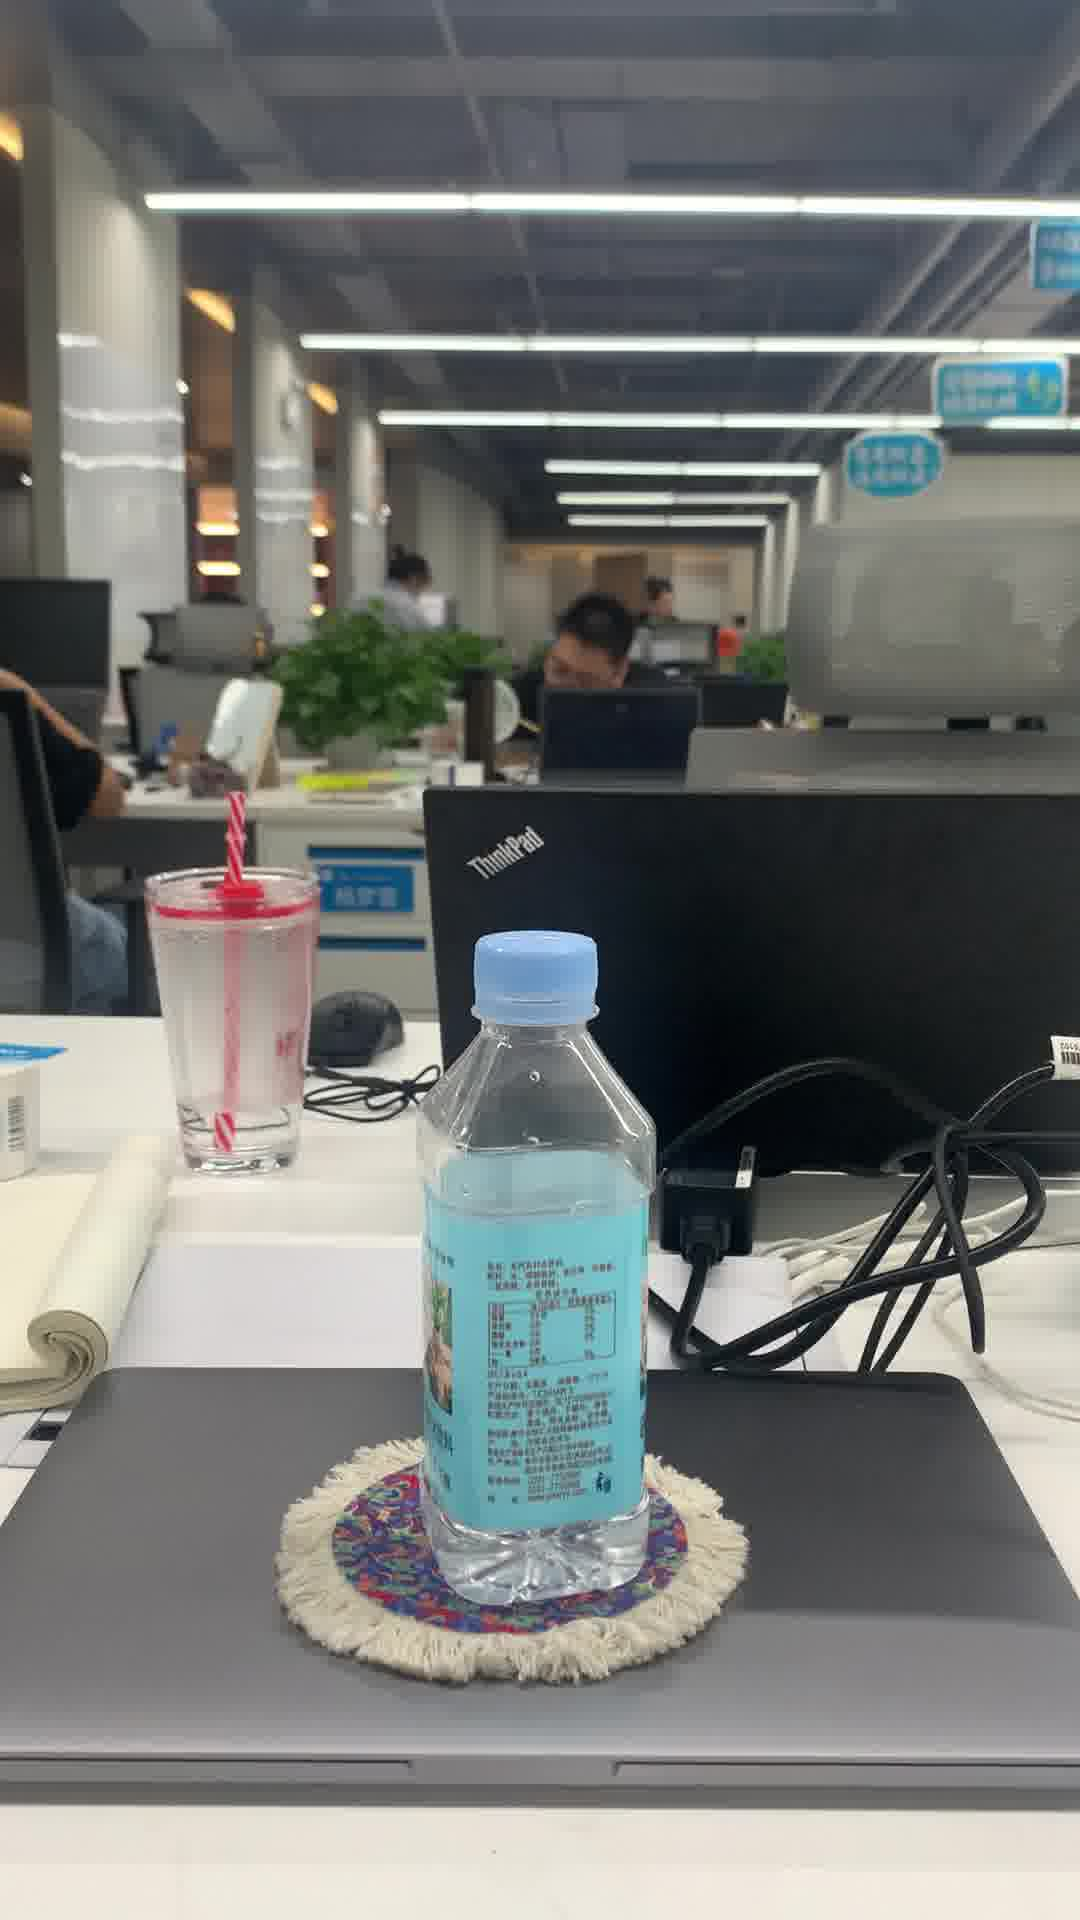水瓶: (418, 926, 663, 1618)
